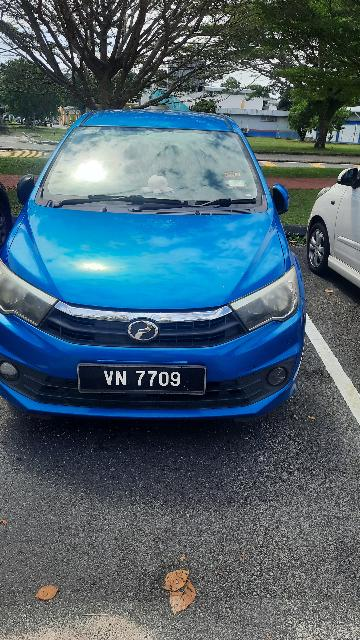License_Plate: (73, 361, 214, 397)
car: (2, 104, 329, 438)
